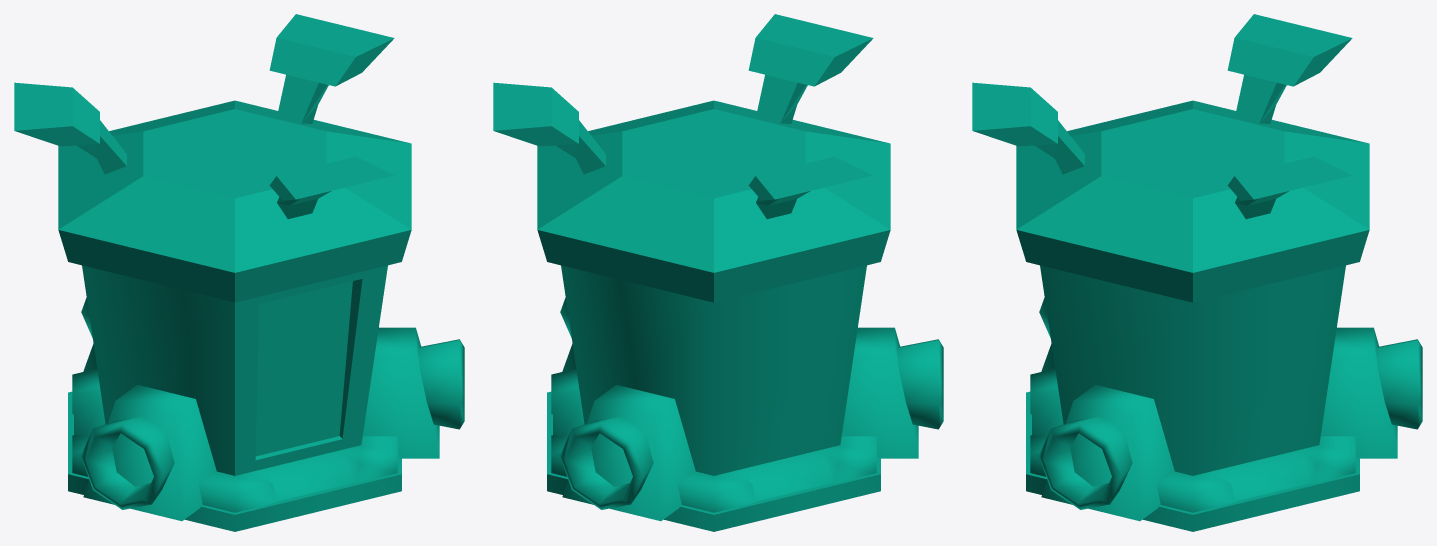
The model's file is (TO TEX) Factory Drones -- Low (MAP).FBX.
The picture shows the model from 3 angles, left to right: view 1: azimuth 30°, elevation 25°; view 2: azimuth 150°, elevation 25°; view 3: azimuth 270°, elevation 25°; orthographic projection.
Visible parts, largest first — view 1: Building, Construction Base; view 2: Building, Construction Base; view 3: Building, Construction Base.
Part boxes in pixels (x1,y1,x2,y2): Building: [14, 14, 464, 521]; Construction Base: [68, 391, 401, 531]; Building: [493, 14, 943, 521]; Construction Base: [547, 391, 880, 531]; Building: [972, 14, 1422, 521]; Construction Base: [1026, 391, 1359, 531].
Size of the model in its own units: 73.49 by 63.43 by 75.33.
